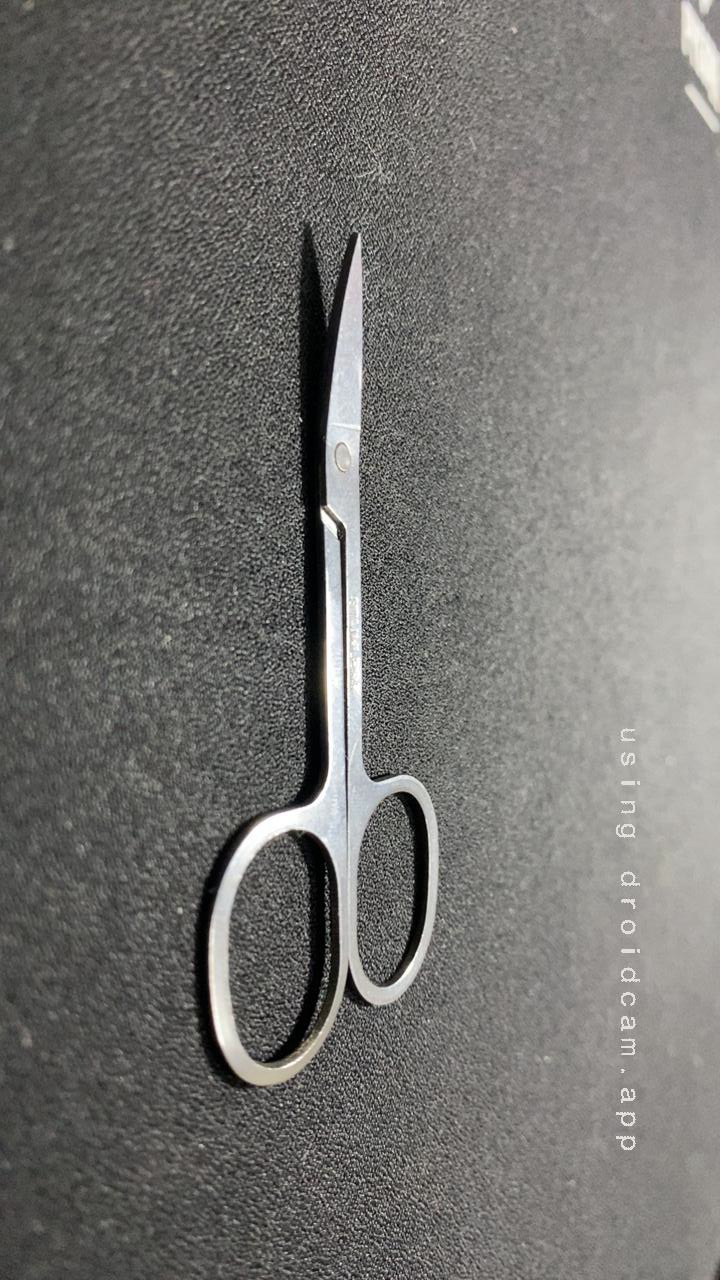scissor: (117, 562, 495, 1088)
